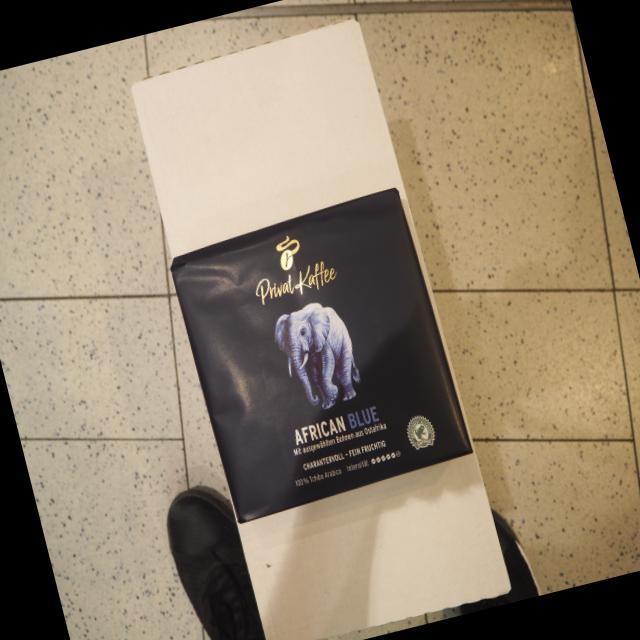AB Gemahlen: (163, 184, 475, 527)
